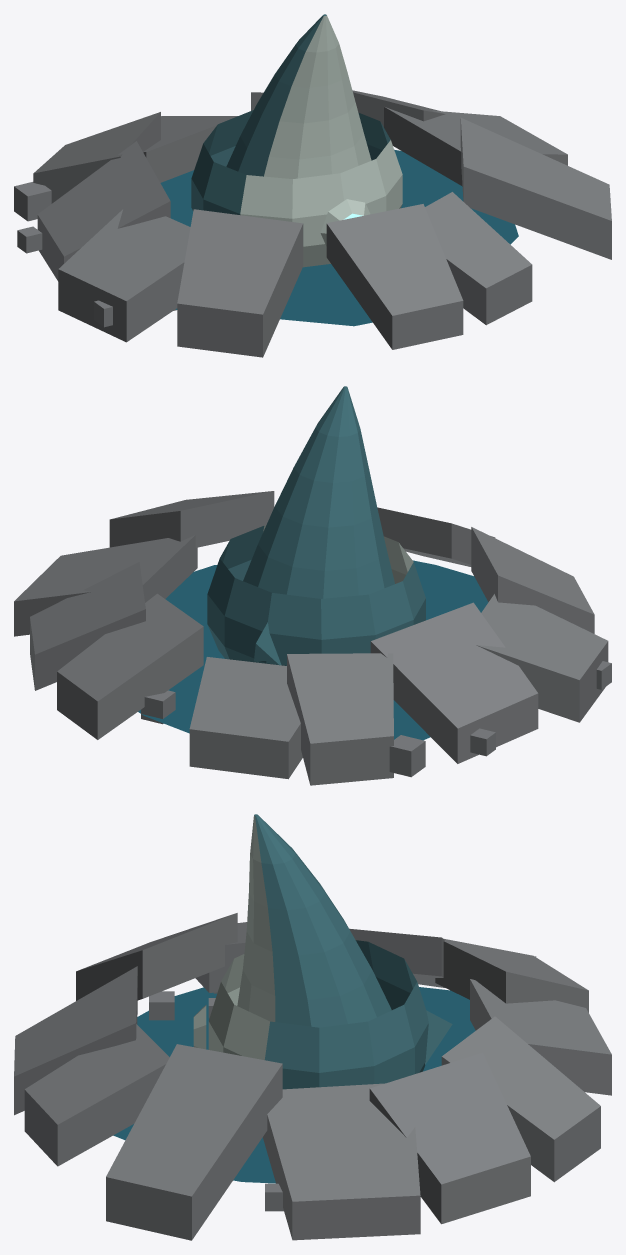
File: tentacle.glb
The picture shows the model from 3 angles, top to bottom: view 1: azimuth 30°, elevation 25°; view 2: azimuth 150°, elevation 25°; view 3: azimuth 270°, elevation 25°; orthographic projection. The views are drawn at different scales.
Parts seen in each view (by area): view 1: Tentacle_Rubble, Tentacle_Tip, Tentacle_Seg, Tentacle_Pool; view 2: Tentacle_Rubble, Tentacle_Tip, Tentacle_Seg, Tentacle_Pool; view 3: Tentacle_Rubble, Tentacle_Tip, Tentacle_Seg, Tentacle_Pool.
Boxes of the visible parts, left/top/right/bottom form: Tentacle_Rubble: left=14, top=90, right=611, bottom=357; Tentacle_Tip: left=226, top=14, right=371, bottom=178; Tentacle_Seg: left=191, top=110, right=402, bottom=267; Tentacle_Pool: left=160, top=149, right=518, bottom=326; Tentacle_Rubble: left=14, top=491, right=611, bottom=785; Tentacle_Tip: left=243, top=386, right=394, bottom=598; Tentacle_Seg: left=207, top=525, right=425, bottom=665; Tentacle_Pool: left=138, top=560, right=488, bottom=740; Tentacle_Rubble: left=14, top=913, right=611, bottom=1240; Tentacle_Tip: left=237, top=814, right=391, bottom=1027; Tentacle_Seg: left=193, top=940, right=452, bottom=1089; Tentacle_Pool: left=113, top=987, right=475, bottom=1183.
Bounding box in the file's own units: 5.77 × 2.75 × 5.21.
